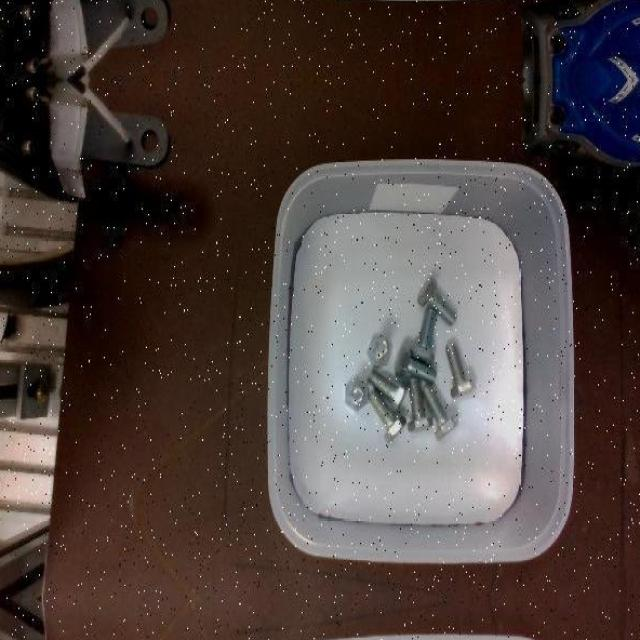screw: (368, 389, 407, 443), (421, 384, 458, 438), (418, 276, 458, 325), (367, 368, 408, 412), (445, 343, 477, 397), (394, 344, 436, 384), (411, 310, 438, 366), (407, 377, 432, 432), (366, 335, 392, 367), (345, 377, 367, 412)
